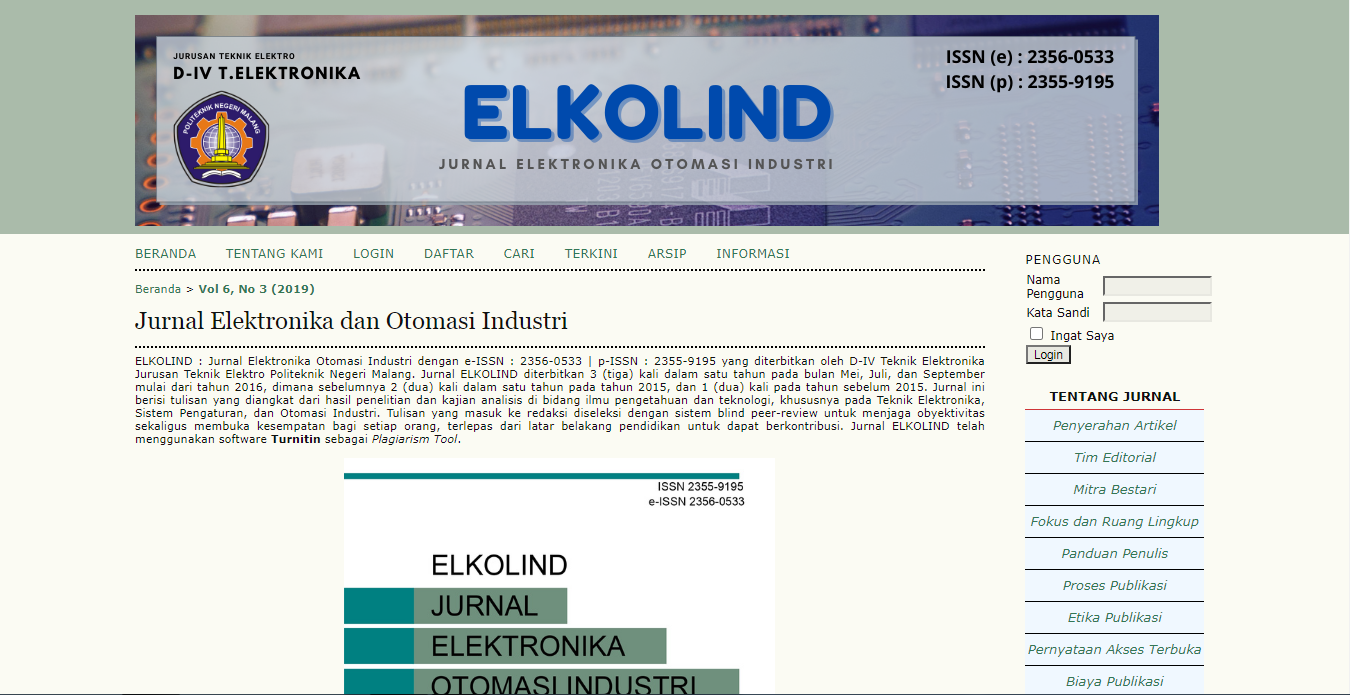Button: (1021, 346, 1074, 368)
Image: (135, 17, 1159, 226), (338, 453, 769, 695)
Menu Bar: (130, 241, 800, 268)
Nav Bar: (196, 279, 320, 297), (132, 282, 186, 298)
Side Bar: (1011, 235, 1219, 695)
Text Field: (1101, 299, 1216, 327), (1101, 272, 1214, 297)
